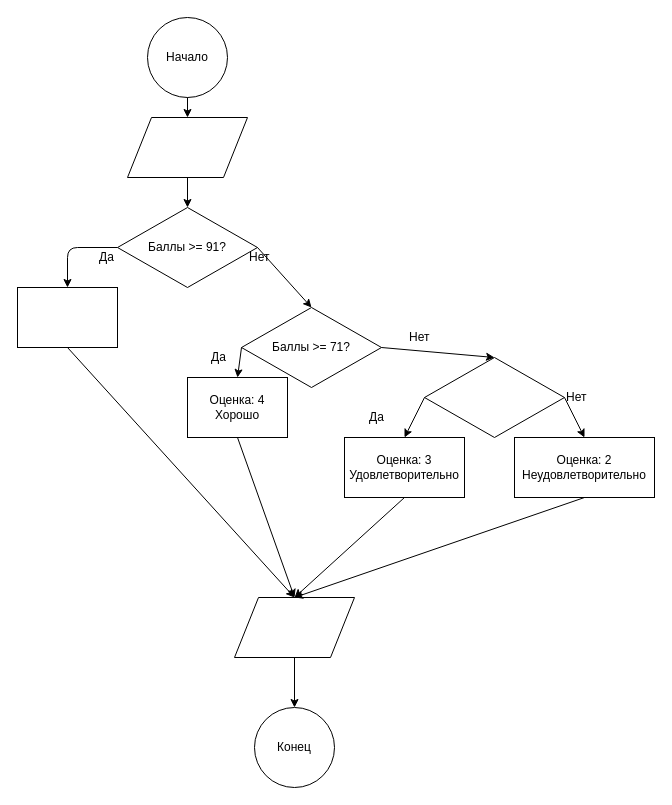
This 672x805 diagram has some shape labels left out. Here are the shapes that lost their labels. From the top down, the box of each, then its label:
(126, 116, 248, 178): Ввод: баллы
(16, 286, 118, 348): Оценка: 5 Отлично
(424, 356, 564, 438): Баллы >= 51?
(234, 596, 354, 658): Вывод: баллы
